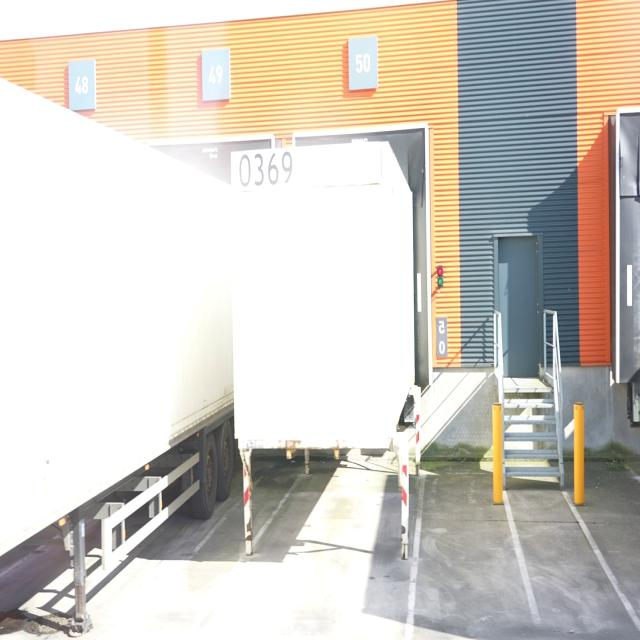Code: (235, 143, 297, 195)
